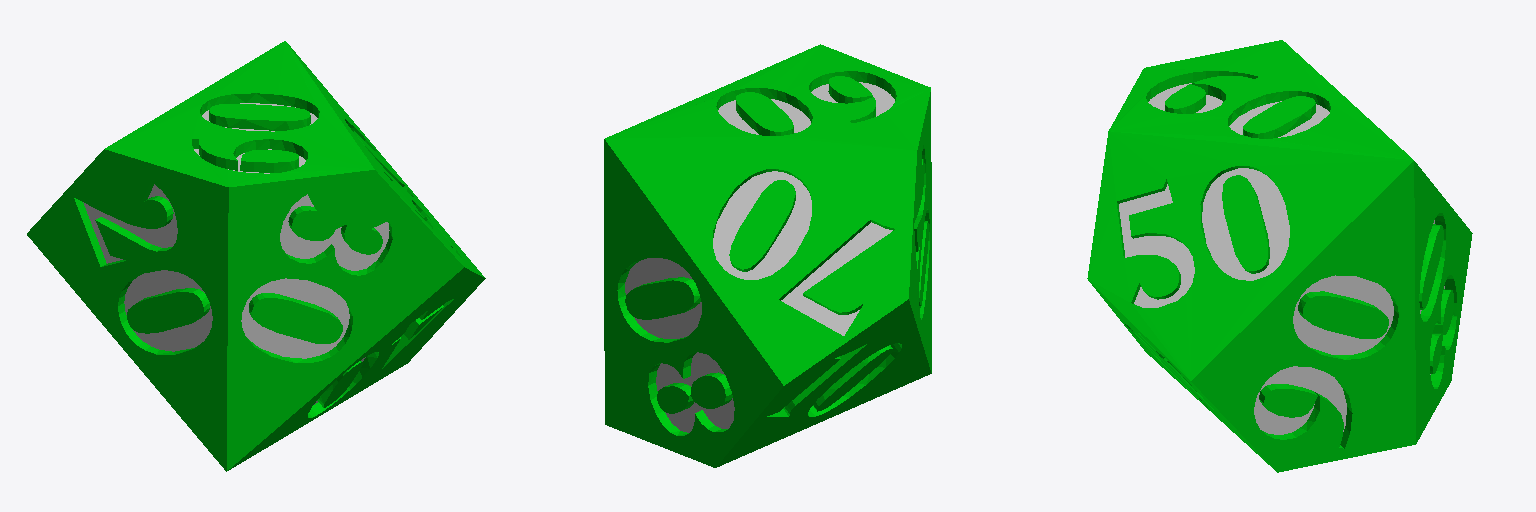
Rendered from Dice100.obj.
The picture shows the model from 3 angles: view 1: azimuth 30°, elevation 25°; view 2: azimuth 150°, elevation 25°; view 3: azimuth 270°, elevation 25°; orthographic projection.
Visible parts, largest first — view 1: D100_16mm; view 2: D100_16mm; view 3: D100_16mm.
Boxes of the visible parts, <box> form: D100_16mm: <box>27,41,485,471</box>; D100_16mm: <box>604,44,931,467</box>; D100_16mm: <box>1087,40,1472,472</box>.
Size of the model in its own units: 2.16 by 1.6 by 1.95.